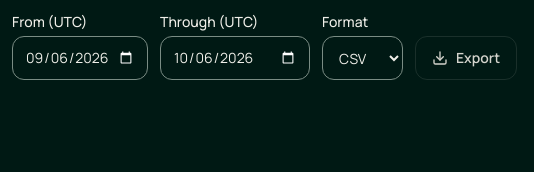
Test: AuditExport › tells a non-admin plainly that only admins can export
The width and height of the screenshot is (534, 172).
Expected: the date field labelled "From (UTC)" holds "2026-09-06", 12,36 -> 148,80
Expected: the date field labelled "Through (UTC)" holds "2026-10-06", 160,36 -> 310,80
Step 1. Click the button "Export" → [466, 58], box 415,36 -> 517,80
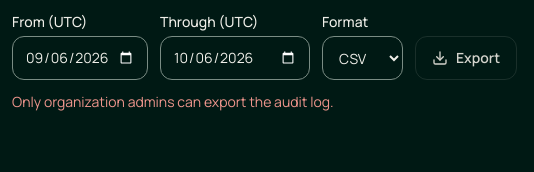
Now the message reads "Only organization admins can export the audit log.", box 12,92 -> 334,111
